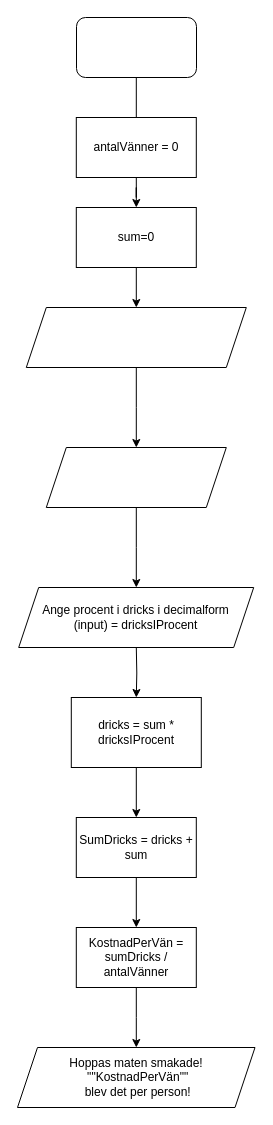
Image size: 273x1125. Some labels were removed from this diagram. Each missing label, with the box of its shape:
Hur mycket kostade kalaset=? (input) = sum: (25, 306, 246, 368)
Hur många är ni? (input) = antalVänner: (45, 446, 226, 508)
Split the nota: (76, 16, 196, 78)
